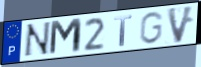2: (83, 16, 106, 52)
G: (138, 10, 165, 46)
M: (48, 17, 84, 57)
N: (22, 20, 52, 59)
T: (113, 13, 134, 47)
V: (166, 5, 196, 45)
